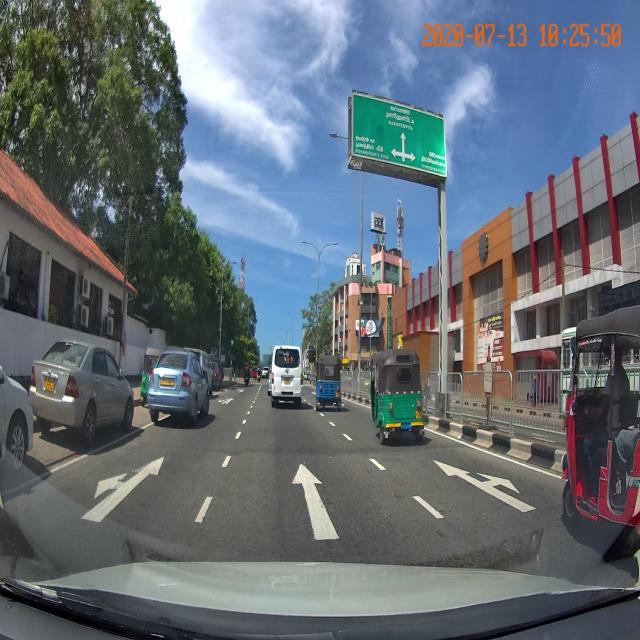forward: (181, 462, 456, 545)
